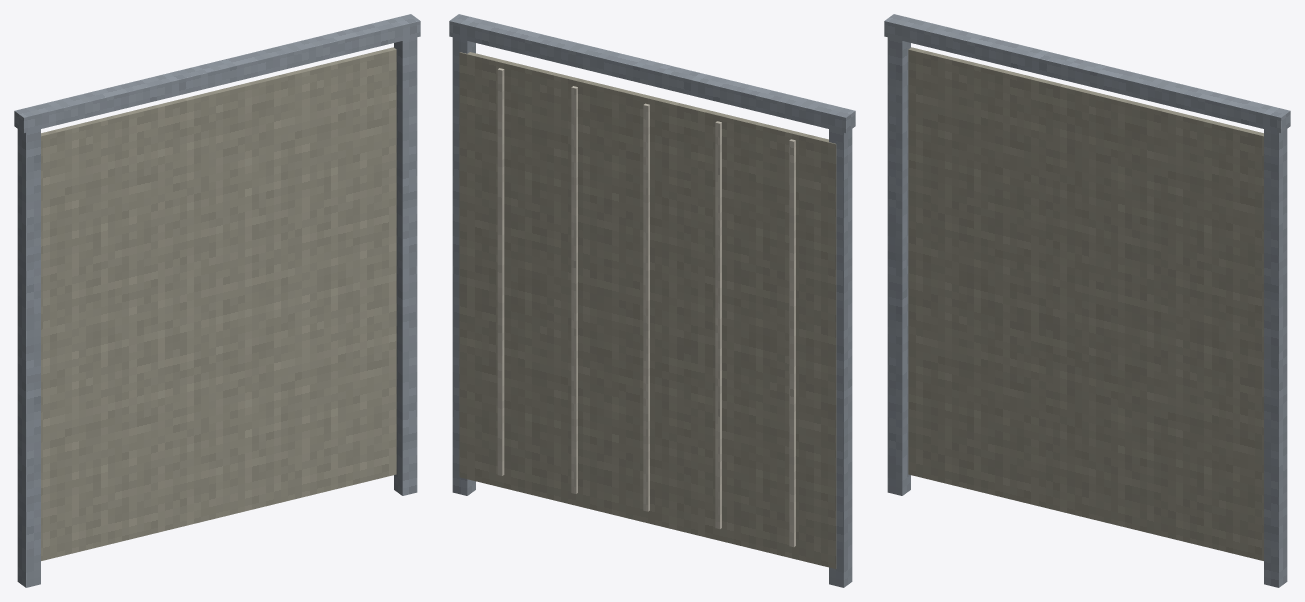
The model's file is level_blockout_hospital_curtain_track.glb.
3 views of the same model, side by side, from view 1: azimuth 30°, elevation 25°; view 2: azimuth 150°, elevation 25°; view 3: azimuth 330°, elevation 25° (orthographic).
Parts seen in each view (by area): view 1: level_blockout_hospital_curtain_track; view 2: level_blockout_hospital_curtain_track; view 3: level_blockout_hospital_curtain_track.
Part boxes in pixels (x1,y1,x2,y2): level_blockout_hospital_curtain_track: (14,14,420,587); level_blockout_hospital_curtain_track: (449,14,855,587); level_blockout_hospital_curtain_track: (884,14,1290,587).
Bounding box in the file's own units: 2.15 × 2.44 × 0.108.
3 materials, 3 textured.
